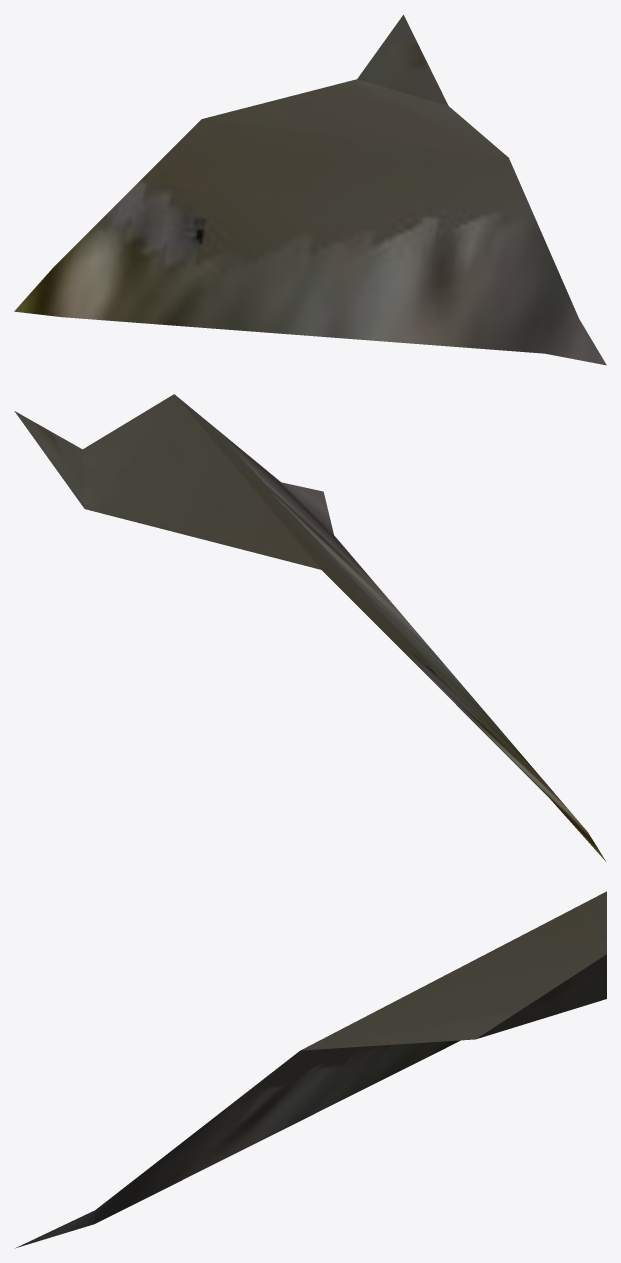
The picture shows the model from 3 angles, top to bottom: view 1: azimuth 30°, elevation 25°; view 2: azimuth 150°, elevation 25°; view 3: azimuth 270°, elevation 25°; orthographic projection. The views are drawn at different scales.
Bounding box in the file's own units: 0.3714 × 0.1841 × 0.3359.
Materials: 1 (1 with a texture image).
